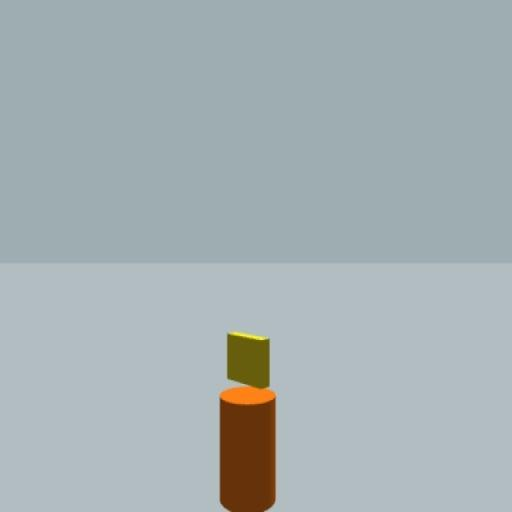buoy: (218, 329, 276, 512)
